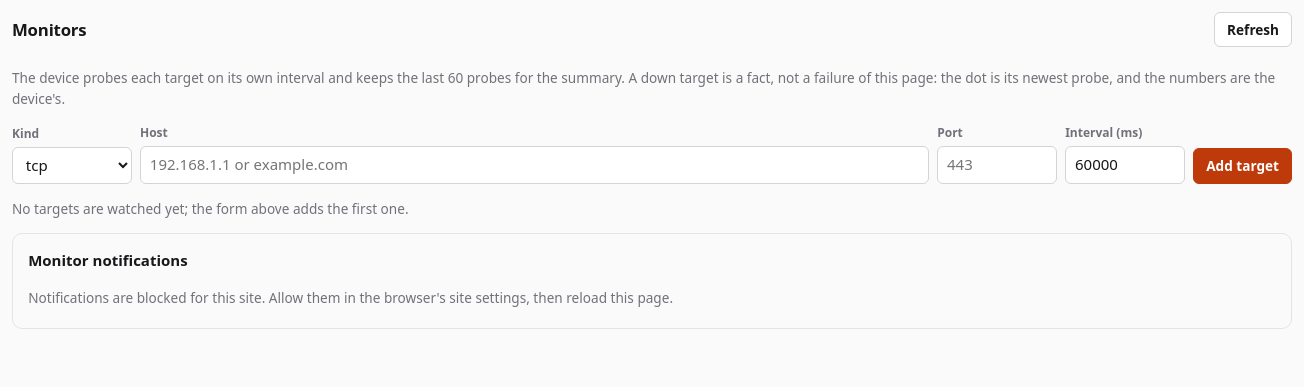
MonitorsPage › shows the device's refusal and keeps the draft that was refused
This screenshot has width=1304, height=387.
Check: the text "No targets are watched yet; the form above adds the first one." is shown, box top-left (12, 199), bottom-right (408, 218)
Type "10.0.0.9" into the field labelled "Host" at (535, 164), box top-left (140, 146), bottom-right (929, 184)
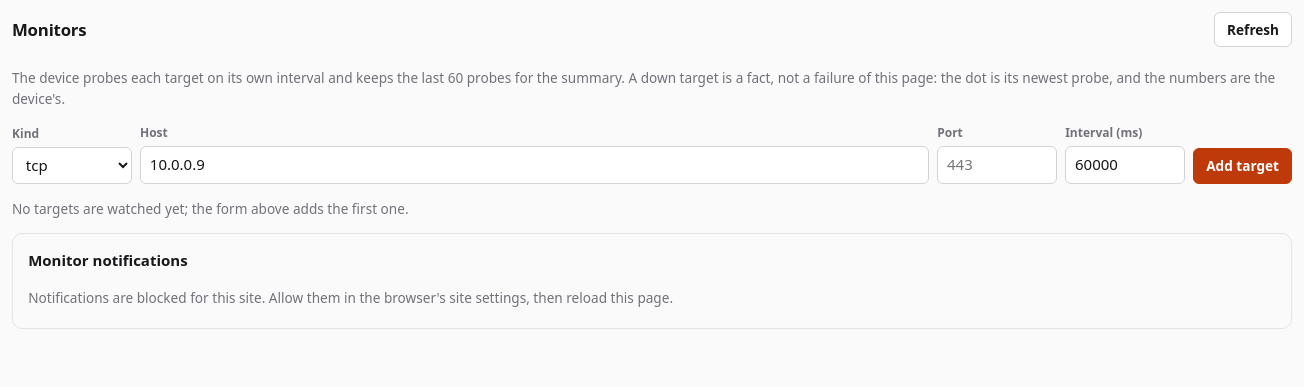
Type "22" into the number field labelled "Port" at (997, 164), box top-left (937, 146), bottom-right (1057, 184)
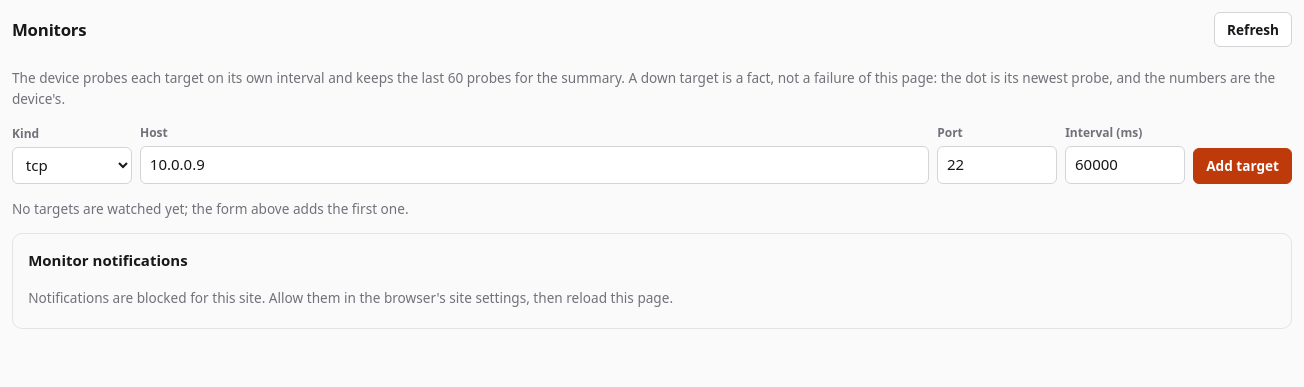
Click the button "Add target" at (1243, 166), box top-left (1193, 148), bottom-right (1292, 184)
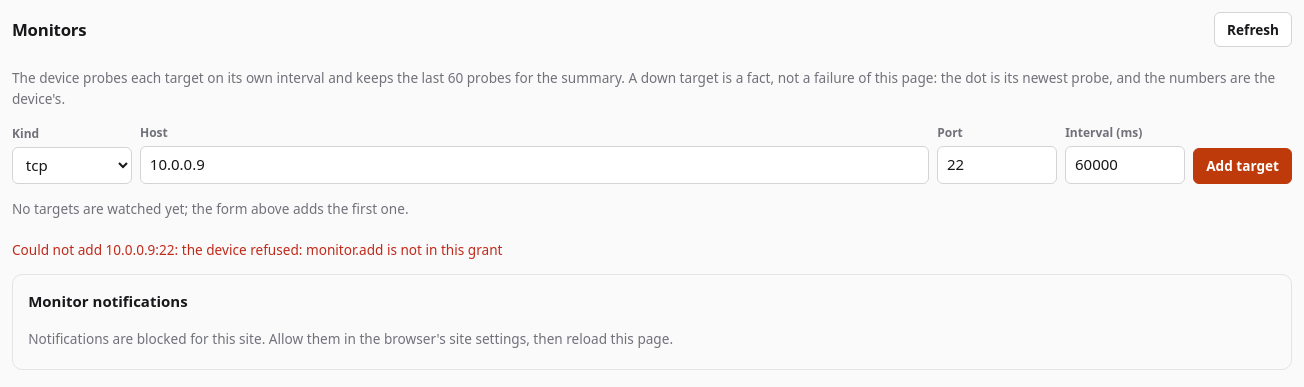
Check: the dropdown labelled "Kind" shows "tcp", box top-left (12, 147), bottom-right (132, 184)
Check: the text "Could not add 10.0.0.9:22: the device refused: monitor.add is not in this grant" is shown, box top-left (12, 240), bottom-right (502, 259)
